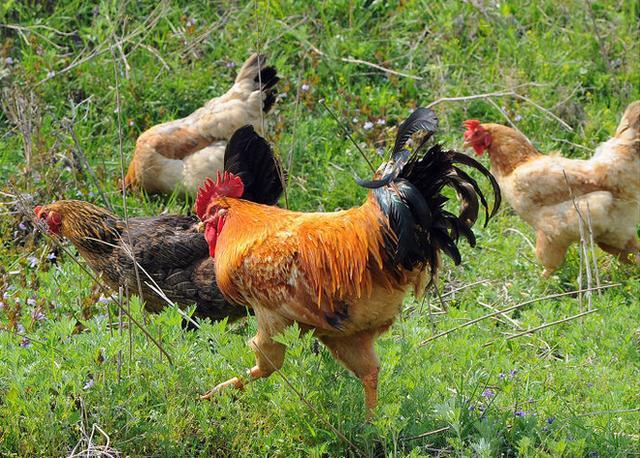animal: (197, 178, 433, 368), (472, 104, 640, 315), (29, 195, 206, 326), (133, 66, 289, 200)
